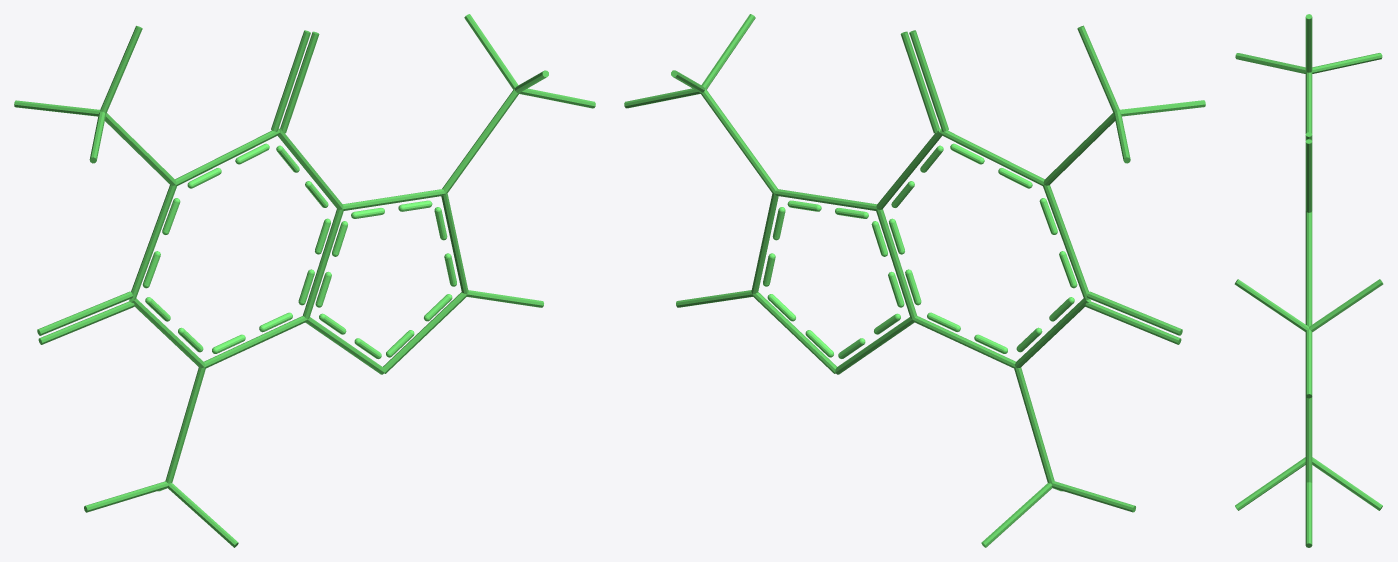
Rendered from caffeine__lines__chain.glb.
3 renders of one model, left to right at view 1: azimuth 30°, elevation 25°; view 2: azimuth 150°, elevation 25°; view 3: azimuth 270°, elevation 25°, orthographic. The views are drawn at different scales.
Visible parts, largest first — view 1: Renderer Node; view 2: Renderer Node; view 3: Renderer Node.
Part boxes in pixels (<box>): Renderer Node: <box>14,14,595,547</box>; Renderer Node: <box>624,14,1205,547</box>; Renderer Node: <box>1234,14,1383,547</box>.
Bounding box in the file's own units: 7.36 × 6.42 × 1.85.
